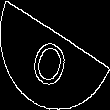O_NE: (31, 22, 79, 88)
